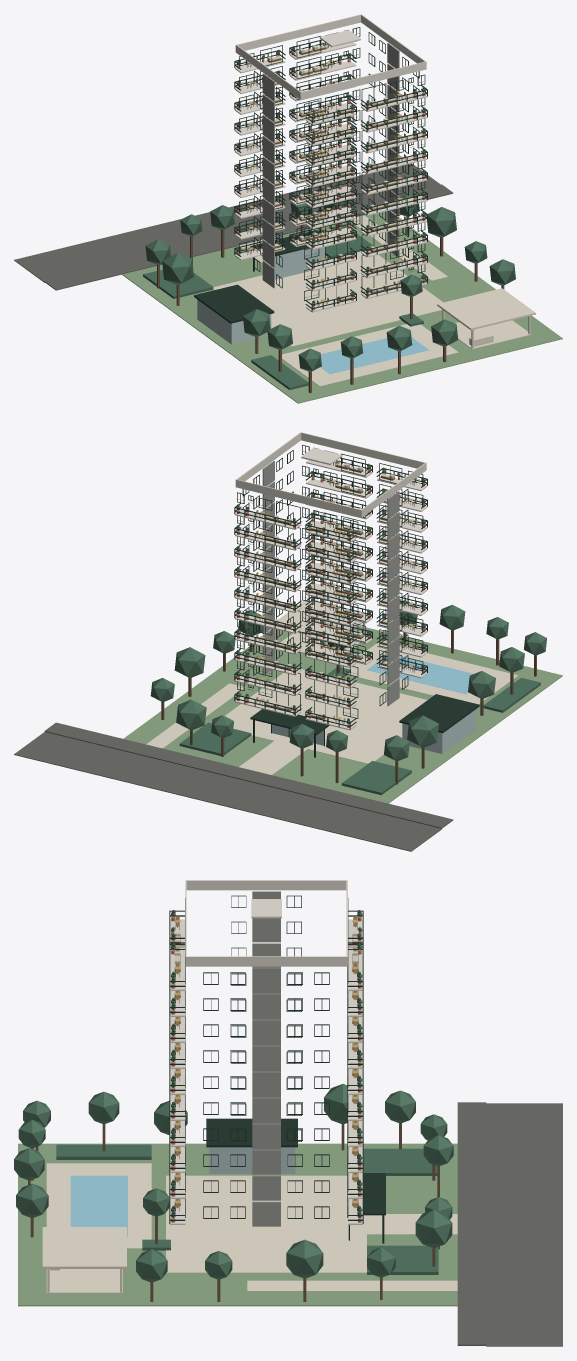
Rendered from residencial-vista-detalhes-v2.glb.
The picture shows the model from 3 angles, top to bottom: view 1: azimuth 30°, elevation 25°; view 2: azimuth 150°, elevation 25°; view 3: azimuth 270°, elevation 25°; orthographic projection. The views are drawn at different scales.
Parts seen in each view (by area): view 1: VIS__TERRENO, VIS__PISO, VIS__VARANDAS, VIS__RUA, VIS__GUARDACORPO, VIS__CAIXILHO, VIS__ARVORES, VIS__FECHAMENTO_HALL, VIS__PLATIBANDA, AMENITY__GOURMET, VIS__JARDIM, VIS__VARANDA_MOVEIS_TECIDO2 (+11 smaller); view 2: VIS__RUA, VIS__TERRENO, VIS__PISO, VIS__VARANDAS, VIS__GUARDACORPO, VIS__CAIXILHO, VIS__ARVORES, VIS__FECHAMENTO_HALL, VIS__PLATIBANDA, VIS__JARDIM, VIS__VARANDA_MOVEIS_TECIDO2, AMENITY__PISCINA (+11 smaller); view 3: VIS__RUA, VIS__PISO, VIS__TERRENO, VIS__ARVORES, VIS__FECHAMENTO_HALL, VIS__VARANDAS, AMENITY__GOURMET, VIS__CAIXILHO, VIS__JARDIM, VIS__PLATIBANDA, AMENITY__PISCINA, VIS__GUARDACORPO (+7 smaller).
Part boxes in pixels (x1,y1,x2,y2): VIS__TERRENO: [122, 211, 562, 403]; VIS__PISO: [213, 215, 458, 386]; VIS__VARANDAS: [235, 42, 427, 312]; VIS__RUA: [14, 163, 453, 290]; VIS__GUARDACORPO: [234, 40, 427, 311]; VIS__CAIXILHO: [239, 27, 425, 300]; VIS__ARVORES: [145, 183, 515, 371]; VIS__FECHAMENTO_HALL: [262, 43, 399, 288]; VIS__PLATIBANDA: [235, 14, 426, 99]; AMENITY__GOURMET: [437, 288, 535, 349]; VIS__JARDIM: [143, 225, 423, 390]; VIS__VARANDA_MOVEIS_TECIDO2: [267, 45, 396, 299]; VIS__RUA: [14, 722, 453, 851]; VIS__TERRENO: [123, 625, 562, 803]; VIS__PISO: [146, 641, 518, 774]; VIS__VARANDAS: [235, 460, 427, 730]; VIS__GUARDACORPO: [234, 457, 427, 729]; VIS__CAIXILHO: [237, 445, 423, 718]; VIS__ARVORES: [150, 600, 546, 761]; VIS__FECHAMENTO_HALL: [262, 460, 399, 706]; VIS__PLATIBANDA: [235, 432, 426, 517]; VIS__JARDIM: [179, 667, 540, 795]; VIS__VARANDA_MOVEIS_TECIDO2: [265, 463, 394, 717]; AMENITY__PISCINA: [367, 655, 473, 694]; VIS__RUA: [457, 1102, 562, 1346]; VIS__PISO: [46, 1163, 457, 1291]; VIS__TERRENO: [18, 1143, 457, 1306]; VIS__ARVORES: [14, 1084, 453, 1282]; VIS__FECHAMENTO_HALL: [252, 891, 280, 1226]; VIS__VARANDAS: [170, 919, 362, 1224]; AMENITY__GOURMET: [42, 1227, 126, 1293]; VIS__CAIXILHO: [185, 895, 348, 1218]; VIS__JARDIM: [56, 1144, 438, 1274]; VIS__PLATIBANDA: [185, 880, 347, 966]; AMENITY__PISCINA: [70, 1175, 127, 1236]; VIS__GUARDACORPO: [169, 910, 363, 1223].
Bounding box in the file's own units: 60 × 37.32 × 57.41.
